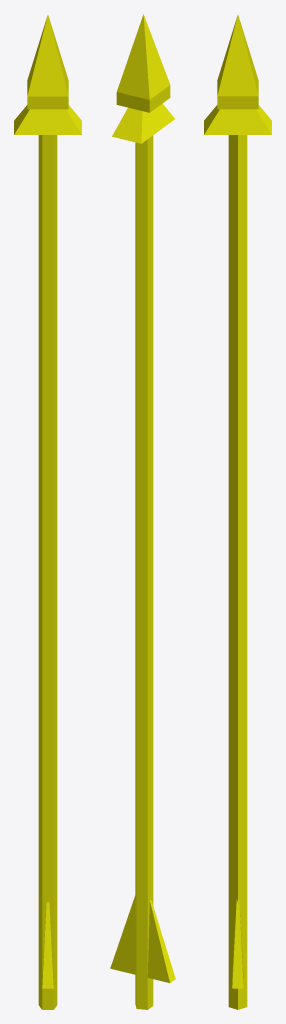
The model's file is _arrow_c_23.glb.
3 renders of one model, left to right at view 1: azimuth 90°, elevation 25°; view 2: azimuth 150°, elevation 25°; view 3: azimuth 270°, elevation 25°, orthographic.
Visible parts, largest first — view 1: arrow_c_23; view 2: arrow_c_23; view 3: arrow_c_23.
Boxes of the visible parts, x1,y1,x2,y2 form: arrow_c_23: (14, 15, 81, 1009); arrow_c_23: (110, 14, 175, 1009); arrow_c_23: (204, 15, 271, 1009).
Bounding box in the file's own units: 1243 × 19663 × 1219.
